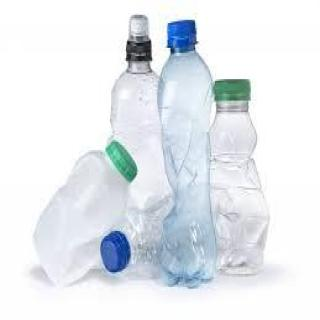Plastic-bottle: (32, 140, 141, 292), (108, 13, 179, 234)
